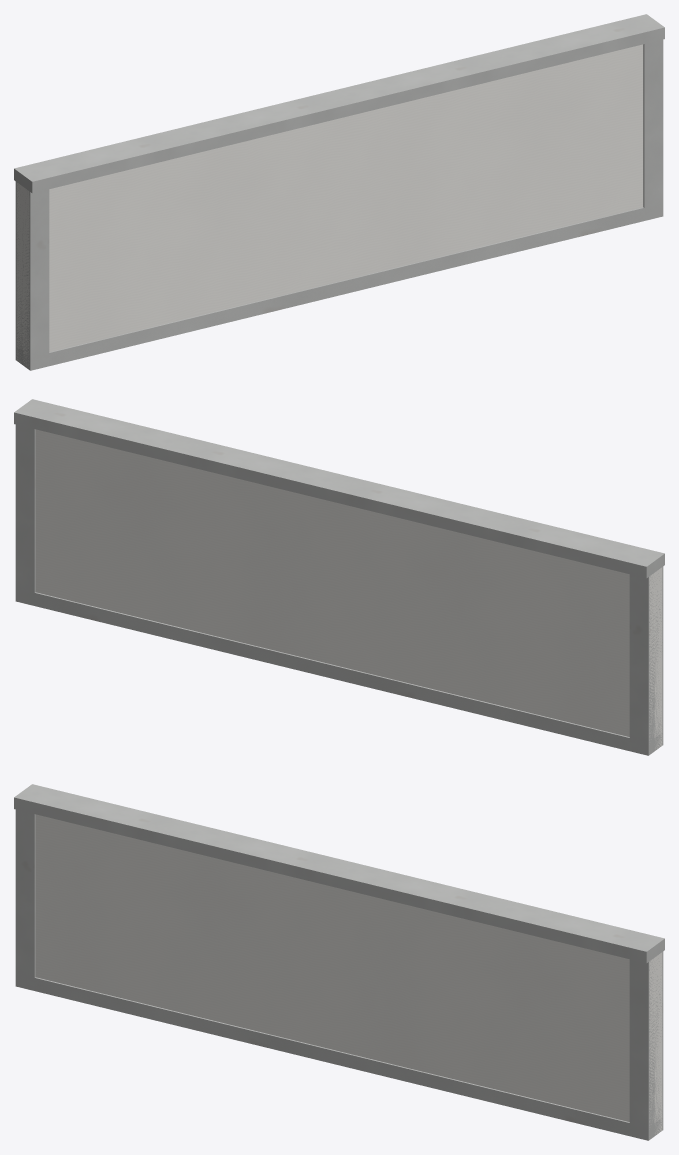
Rendered from divider.gltf.
The picture shows the model from 3 angles, top to bottom: view 1: azimuth 30°, elevation 25°; view 2: azimuth 150°, elevation 25°; view 3: azimuth 330°, elevation 25°; orthographic projection.
Parts seen in each view (by area): view 1: jx_divider; view 2: jx_divider; view 3: jx_divider.
Part boxes in pixels (x1,y1,x2,y2): jx_divider: (14, 14, 664, 370); jx_divider: (14, 399, 664, 755); jx_divider: (14, 784, 664, 1140).
Size of the model in its own units: 4 by 1.15 by 0.2.
2 materials, 2 textured.
